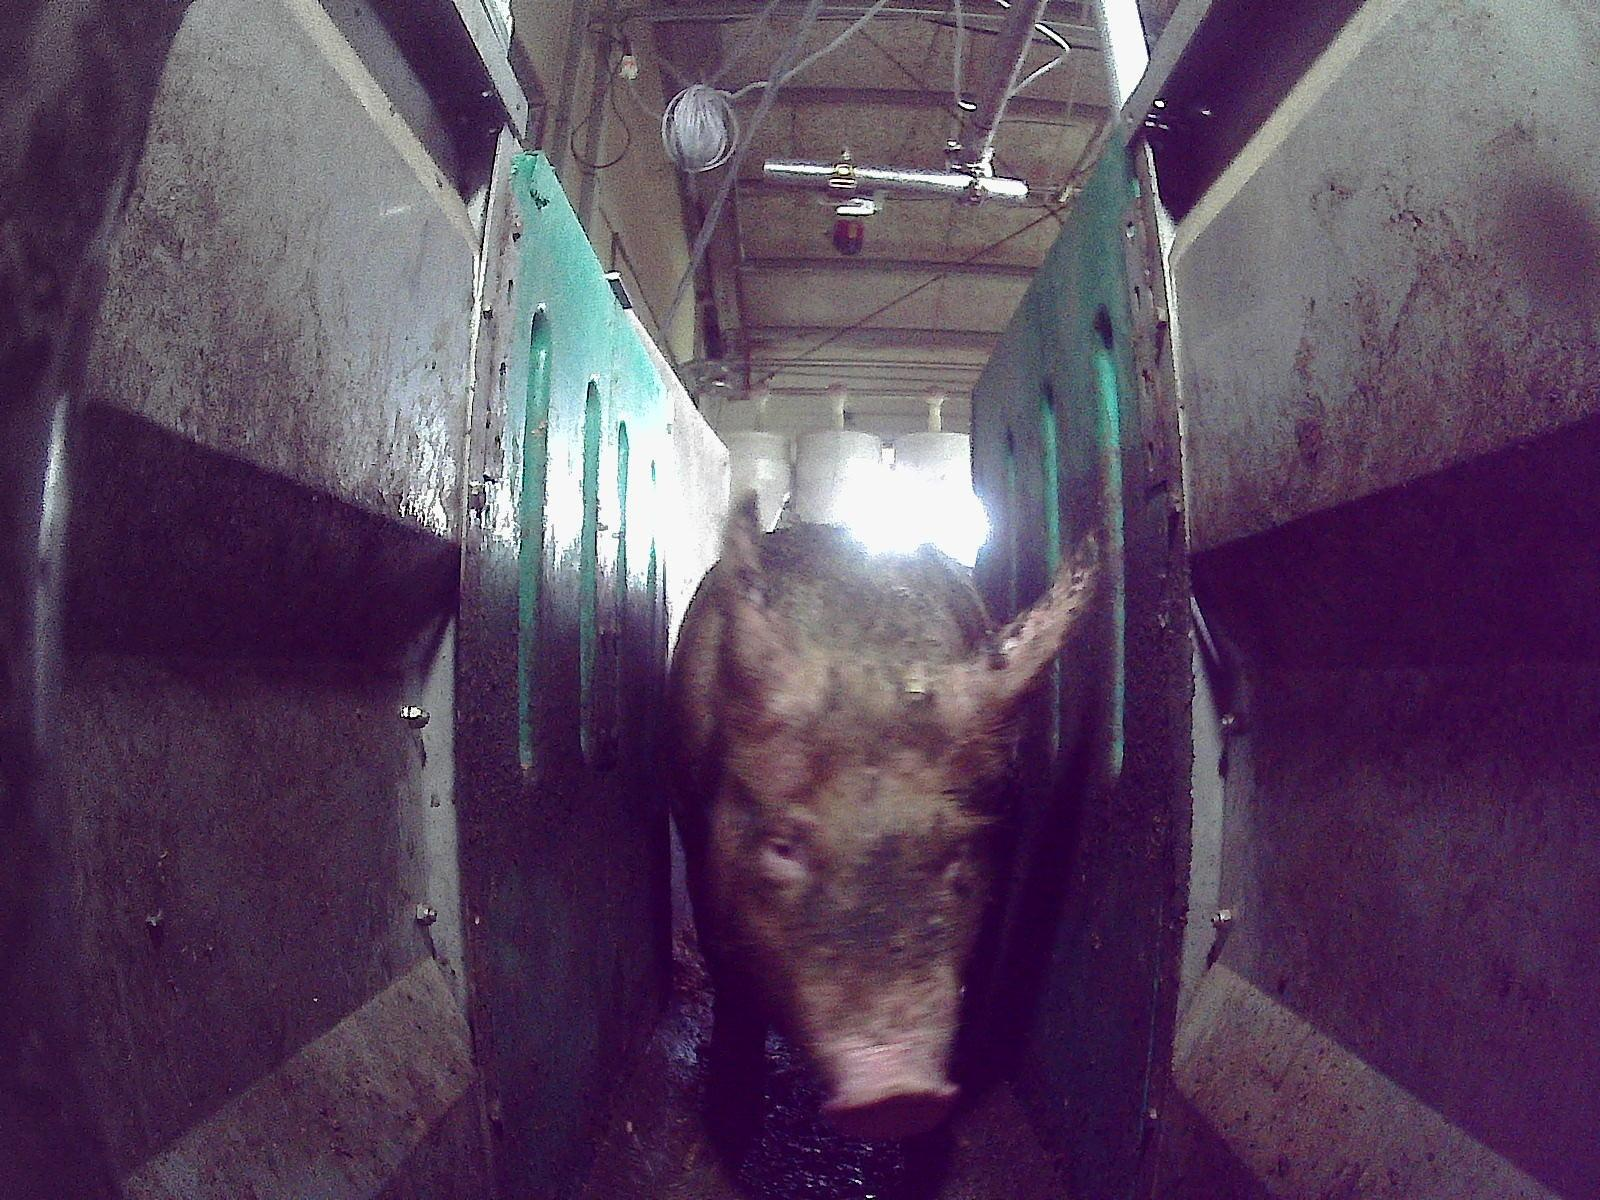Face: (725, 692, 1004, 1138)
